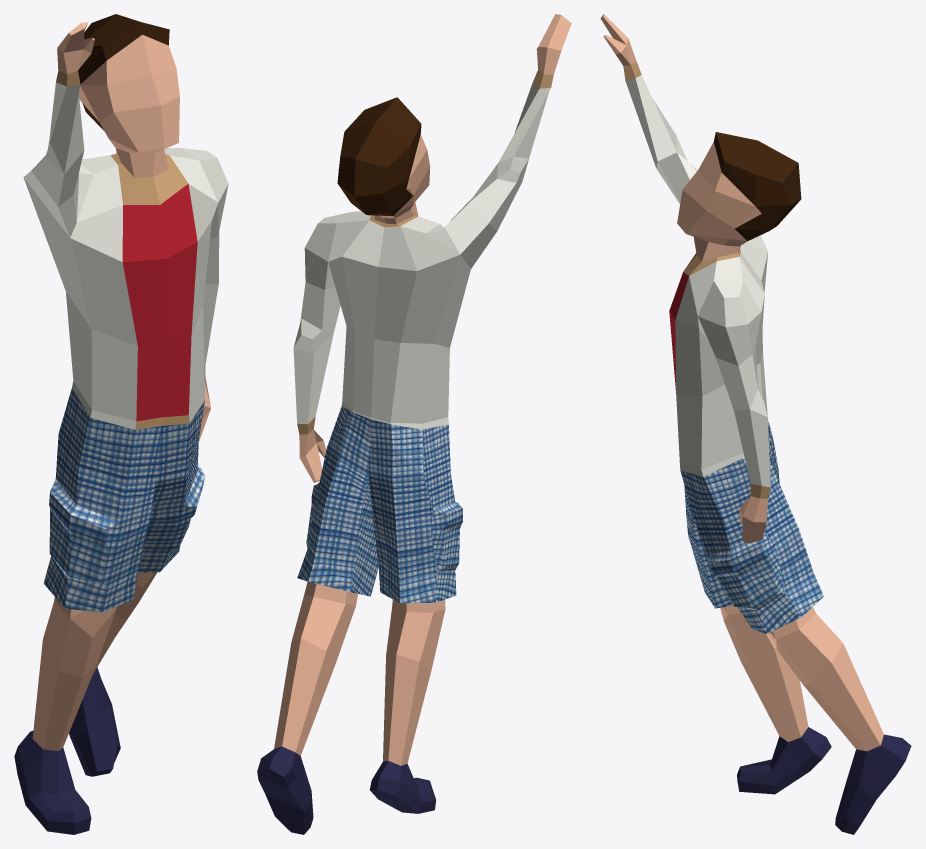
File: SpringBoy.004.glb
3 views of the same model, side by side, from view 1: azimuth 30°, elevation 25°; view 2: azimuth 150°, elevation 25°; view 3: azimuth 270°, elevation 25° (orthographic). The views are drawn at different scales.
Visible parts, largest first — view 1: SpringBoy.004; view 2: SpringBoy.004; view 3: SpringBoy.004.
Part boxes in pixels (x1,y1,x2,y2): SpringBoy.004: [14, 14, 228, 834]; SpringBoy.004: [257, 14, 571, 834]; SpringBoy.004: [600, 14, 911, 834].
Bounding box in the file's own units: 0.3838 × 1.4 × 0.5257.
1 material, 1 textured.
